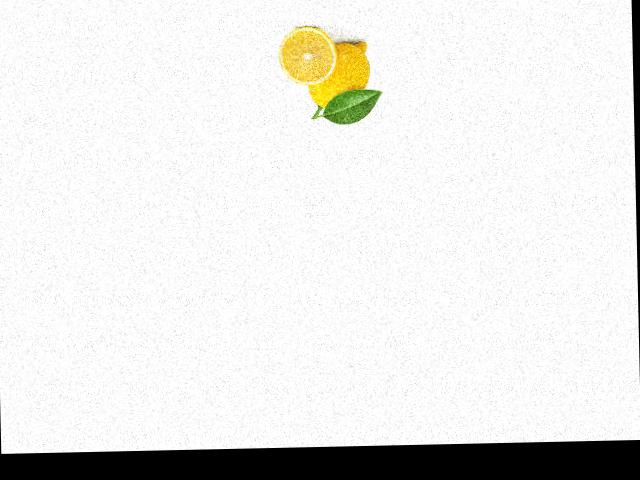lemon: (303, 37, 374, 119)
